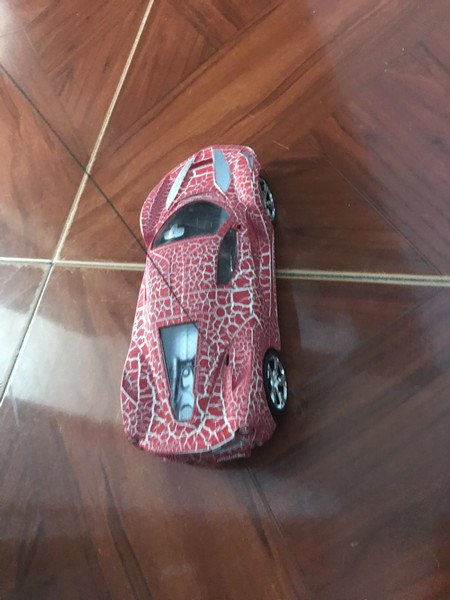RC: (119, 142, 291, 470)
